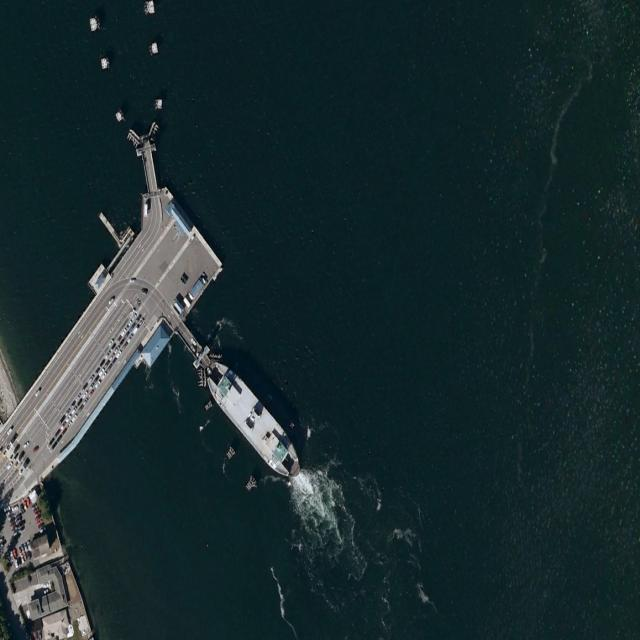RoRo: (198, 351, 309, 489)
